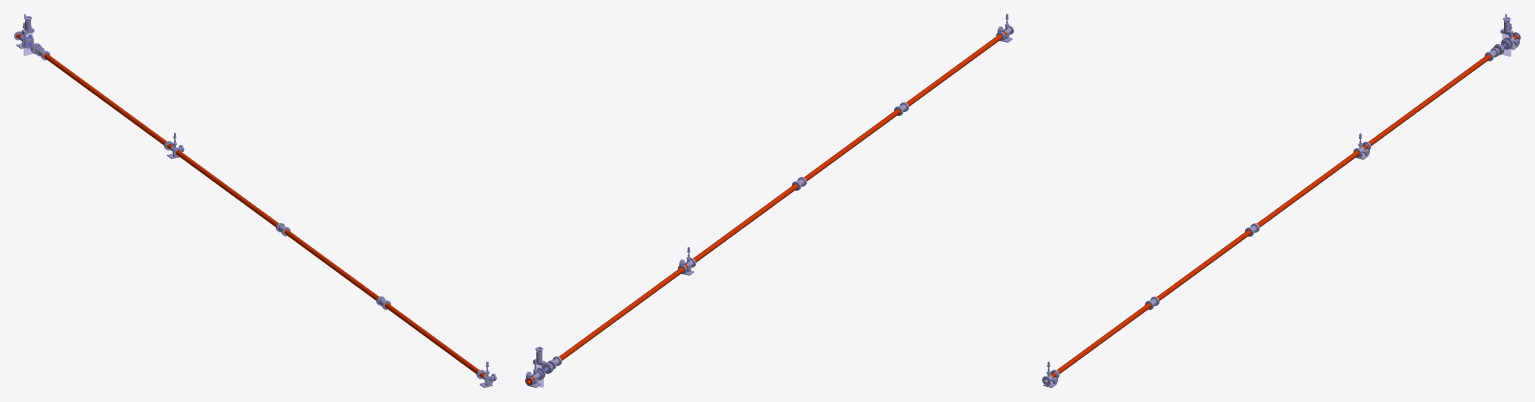
Rendered from g2_pipe_a.glb.
The picture shows the model from 3 angles, left to right: view 1: azimuth 30°, elevation 25°; view 2: azimuth 150°, elevation 25°; view 3: azimuth 330°, elevation 25°; orthographic projection. The views are drawn at different scales.
Visible parts, largest first — view 1: Mesh_0; view 2: Mesh_0; view 3: Mesh_0.
Boxes of the visible parts, bbox=[...] form: Mesh_0: bbox=[14, 14, 496, 387]; Mesh_0: bbox=[525, 14, 1013, 387]; Mesh_0: bbox=[1042, 14, 1520, 387].
Bounding box in the file's own units: 23.72 × 70.68 × 1510.
